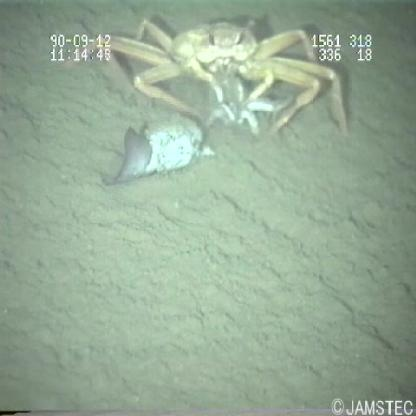Bio: (55, 13, 350, 194)
